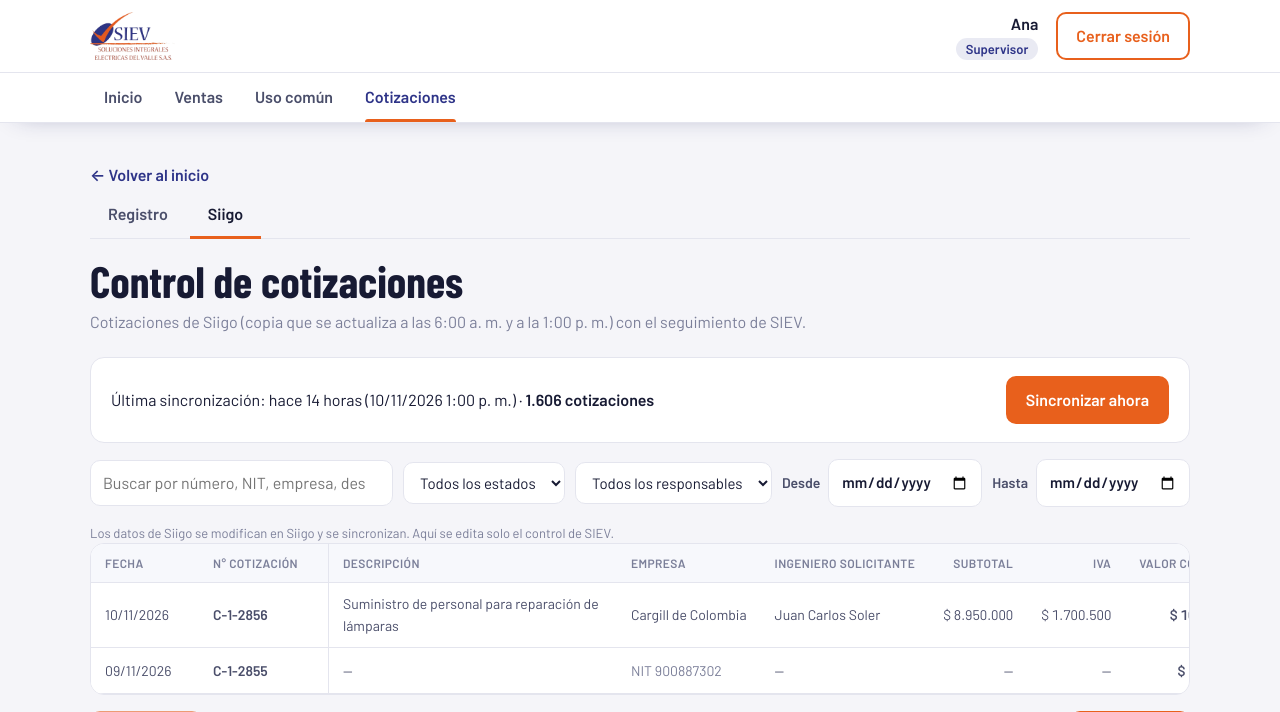
Scenario: permisos › sin siigo:editar no hay selector de estado ni formulario
This screenshot has width=1280, height=712.
Click the text "C-1-2856" at (240, 615), box x1=213 y1=606 x2=268 y2=623
(page scrolled)
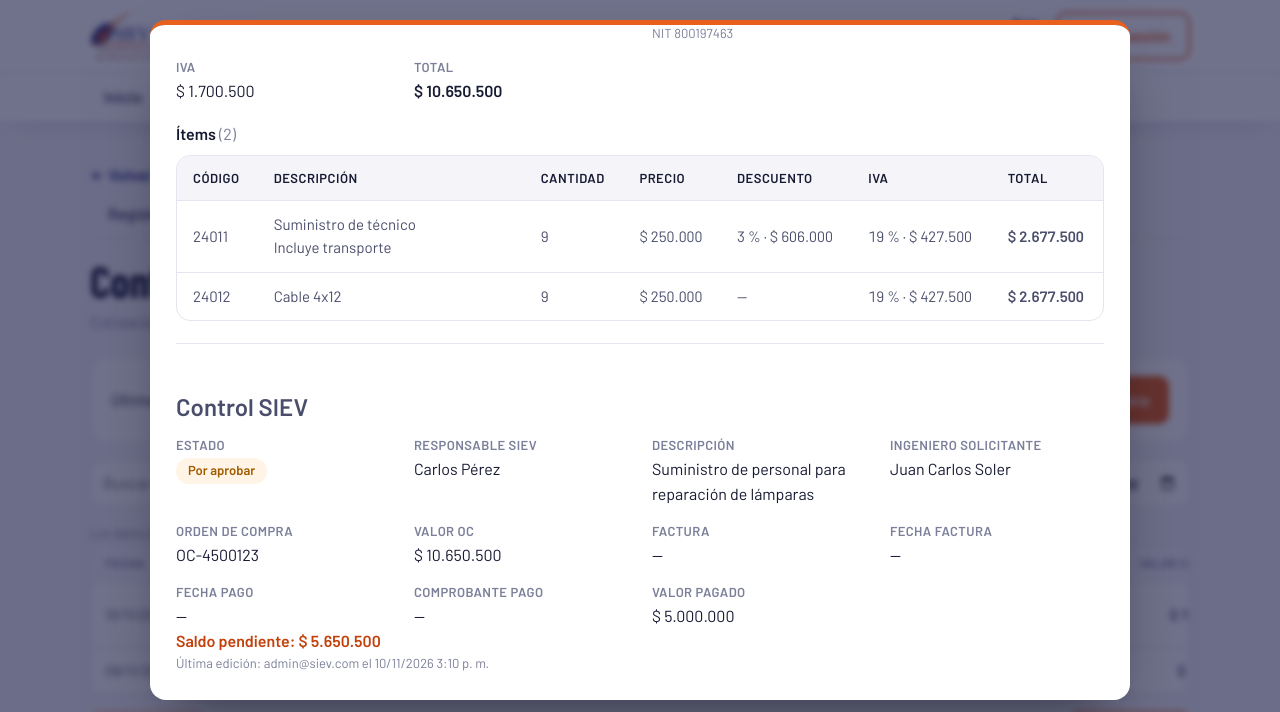
Expected: the heading "Control SIEV" is shown, x1=176 y1=392 x2=308 y2=421
Expected: the text "OC-4500123" is shown, x1=176 y1=545 x2=259 y2=564
